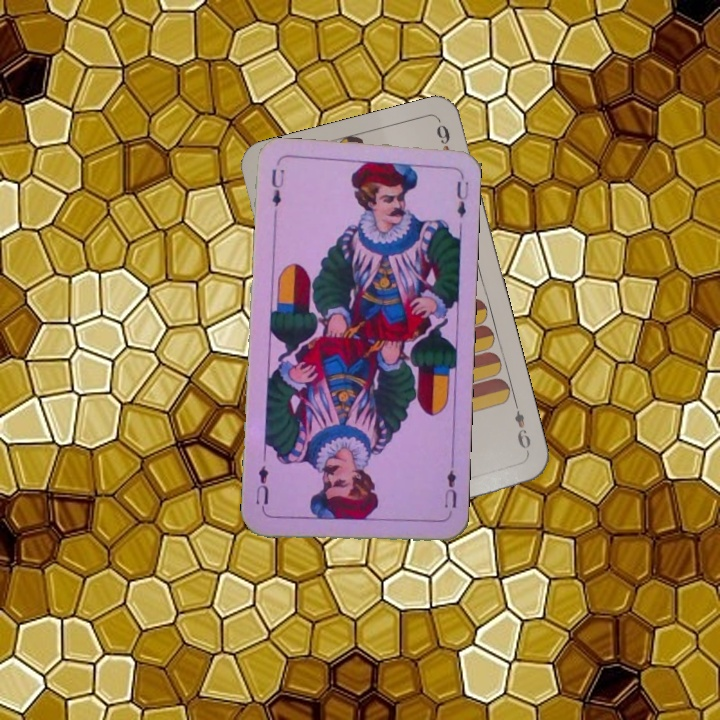E9: (510, 399, 534, 458)
EU: (267, 164, 287, 221), (440, 459, 459, 511)
